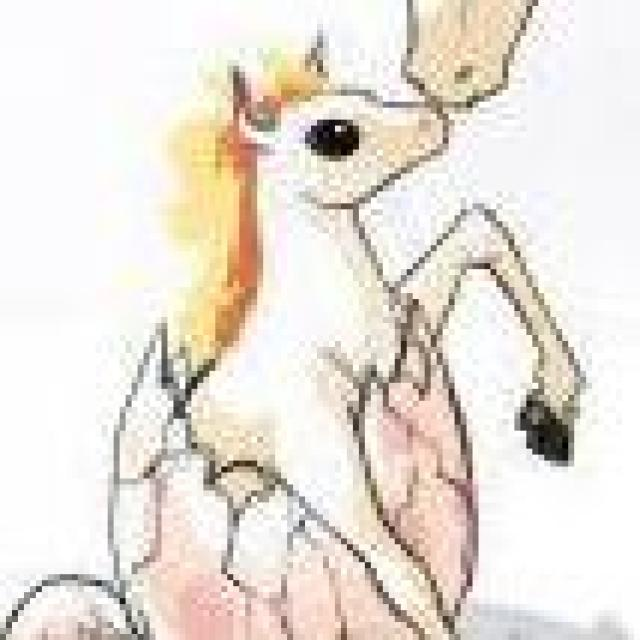Ponyta: (184, 49, 494, 625)
